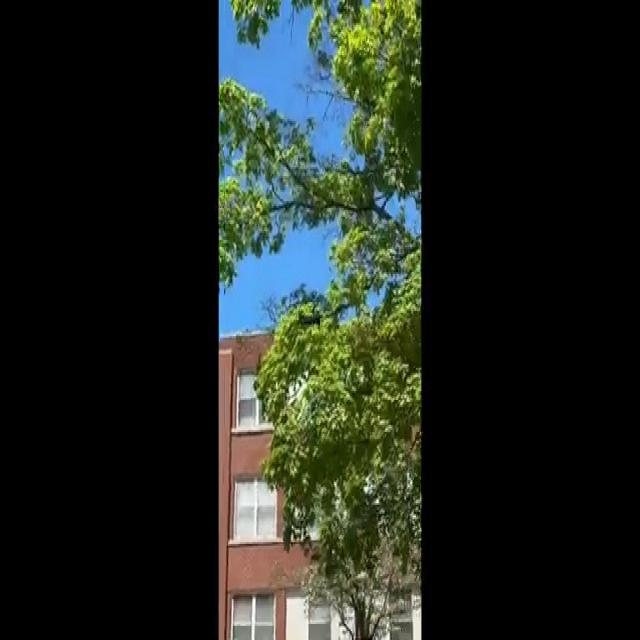drone: (295, 300, 328, 334)
